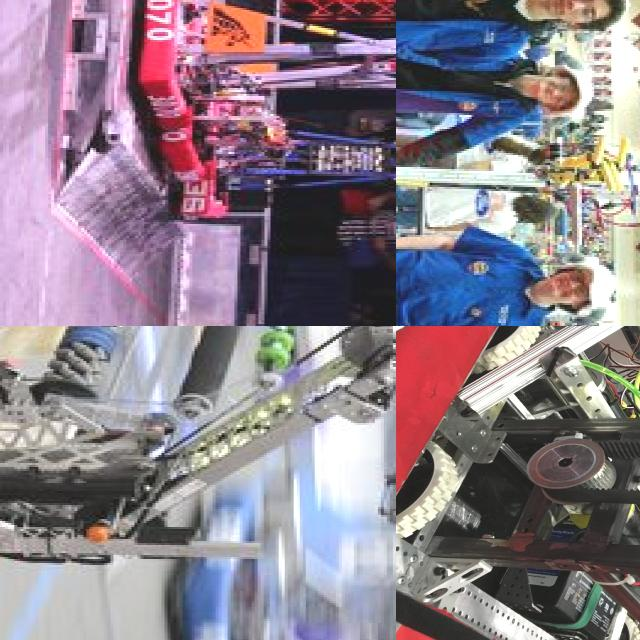FRC-Robots: (0, 326, 396, 640), (396, 326, 640, 640), (396, 36, 640, 323), (74, 0, 396, 137), (179, 131, 396, 231), (132, 101, 286, 195)
